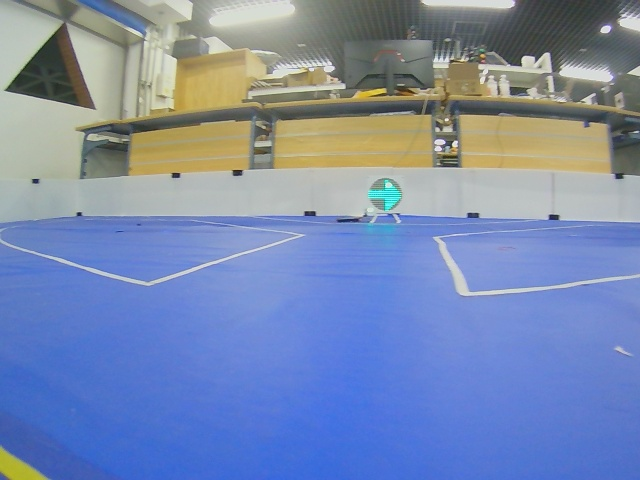right_green: (368, 178, 402, 212)
